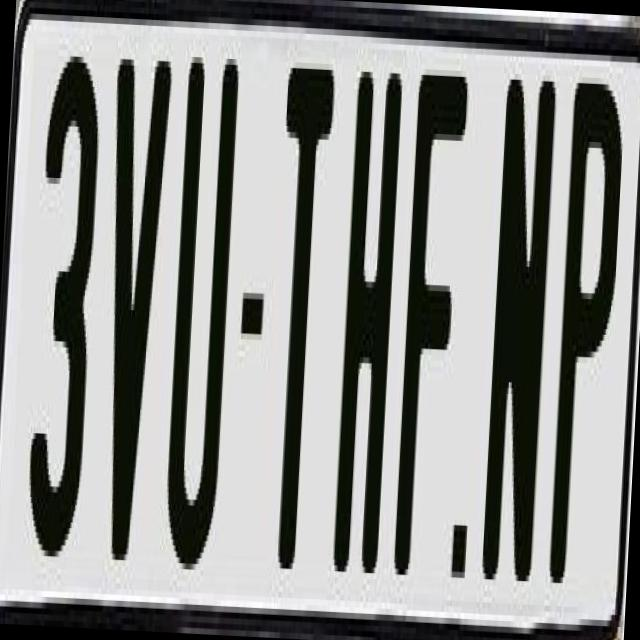3: (22, 38, 102, 540)
F: (390, 62, 466, 594)
H: (331, 71, 401, 580)
N: (477, 61, 558, 594)
P: (543, 65, 628, 603)
T: (260, 62, 340, 576)
U: (158, 51, 244, 600)
V: (90, 59, 176, 567)
